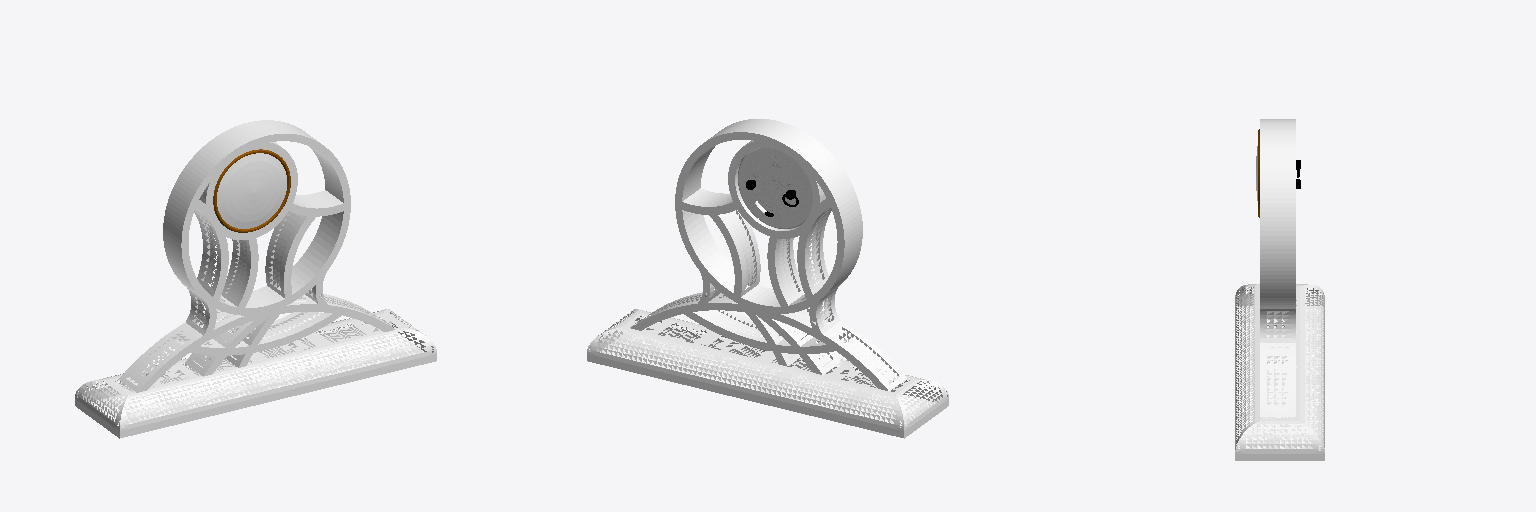
3 views of the same model, side by side, from view 1: azimuth 30°, elevation 25°; view 2: azimuth 150°, elevation 25°; view 3: azimuth 270°, elevation 25° (orthographic).
Parts seen in each view (by area): view 1: body1, body3, body2, glass, rim; view 2: body1, body3, body2, trunk2; view 3: body3, body1, body2.
Part boxes in pixels (bbox=[...]): body1: bbox=[163, 120, 350, 315]; body3: bbox=[75, 309, 436, 438]; body2: bbox=[118, 272, 394, 392]; glass: bbox=[217, 153, 286, 228]; rim: bbox=[213, 149, 290, 232]; body1: bbox=[675, 119, 862, 313]; body3: bbox=[587, 309, 948, 438]; body2: bbox=[631, 272, 906, 390]; trunk2: bbox=[738, 148, 812, 228]; body3: bbox=[1235, 284, 1324, 460]; body1: bbox=[1260, 119, 1295, 312]; body2: bbox=[1260, 309, 1295, 416].
Bounding box in the file's own units: 90 × 69 × 22.
6 materials, 2 textured.